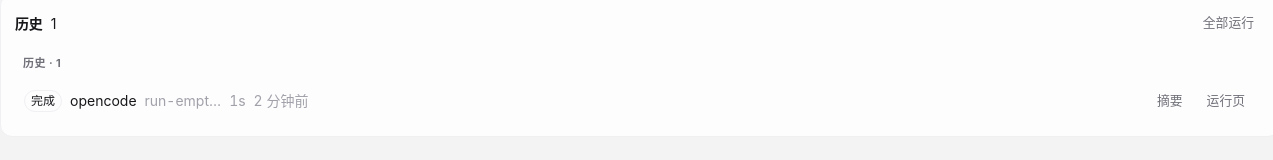
Test case: IssueRunHistory execution controls › G3-3：无轨迹数据时展开显示空态
What coordinates should you click on to do the following:
click the button with test id "issue-run-history-preview"
I would click on:
 (1170, 100)
Its box is [1146,84,1194,116].
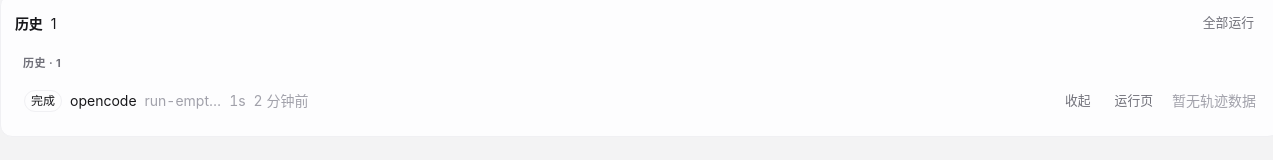
Expected: the text with test id "run-preview-empty" reads "暂无轨迹数据", [1172,92,1256,109]
